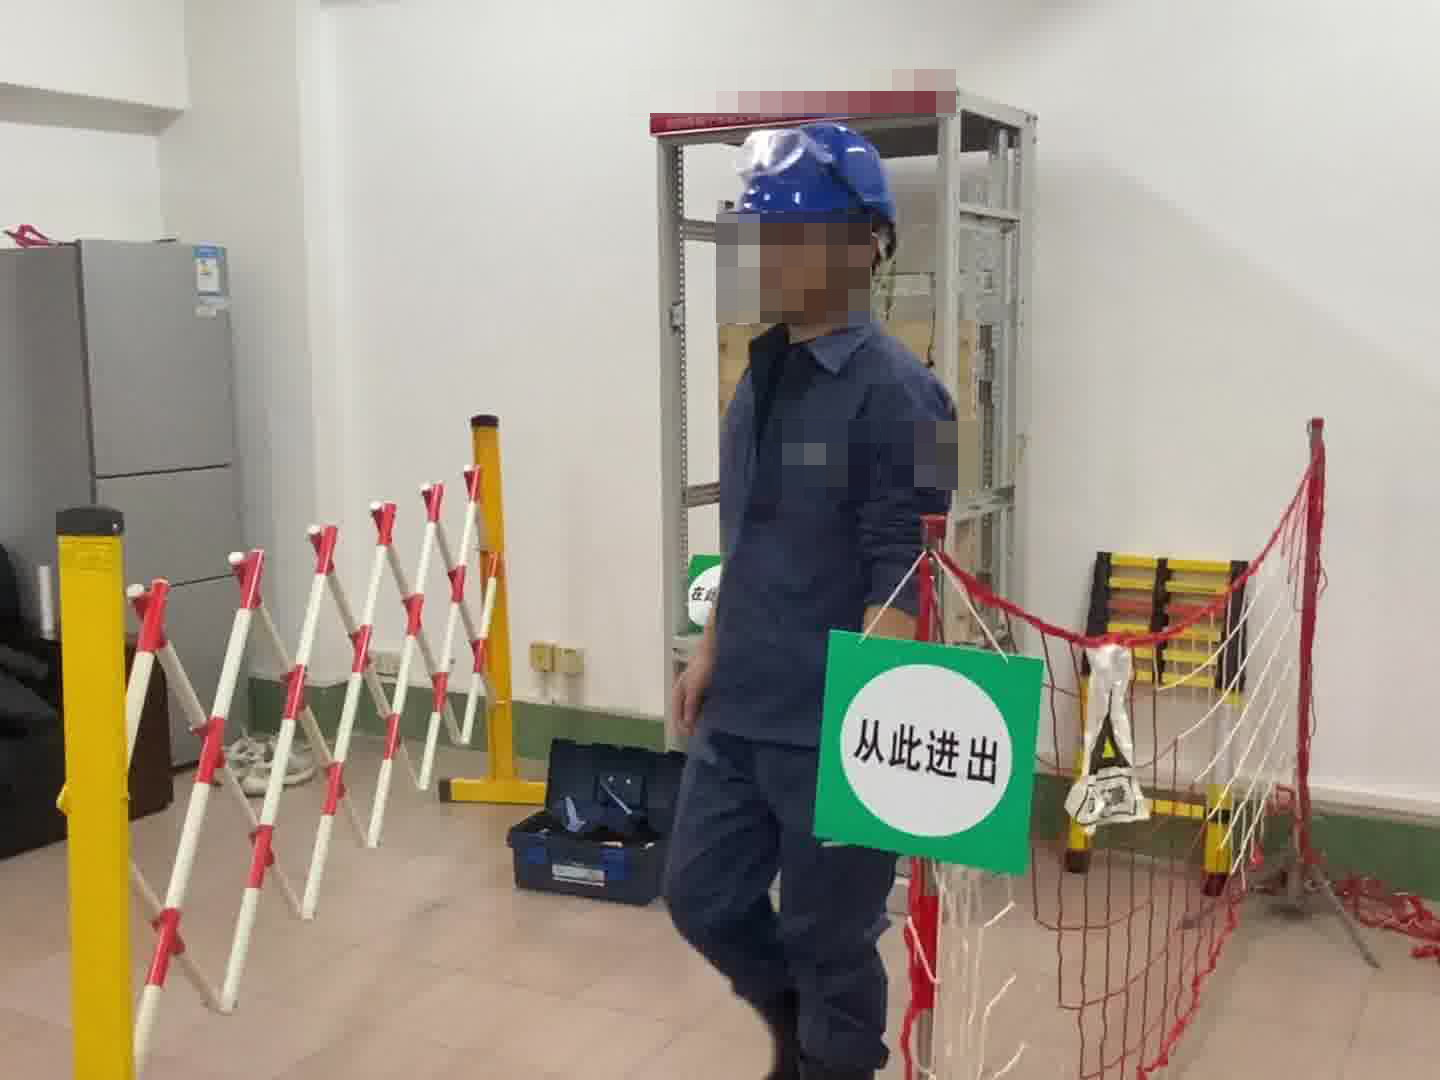downsuit: (669, 752, 902, 1080)
halt: (720, 117, 911, 328)
hand: (664, 659, 711, 744)
inear: (812, 218, 876, 325)
intosign: (807, 621, 1041, 879)
person: (625, 113, 964, 1080)
sleeve: (904, 426, 964, 504)
upsuit: (685, 312, 955, 736)
worksign: (680, 540, 734, 632)
